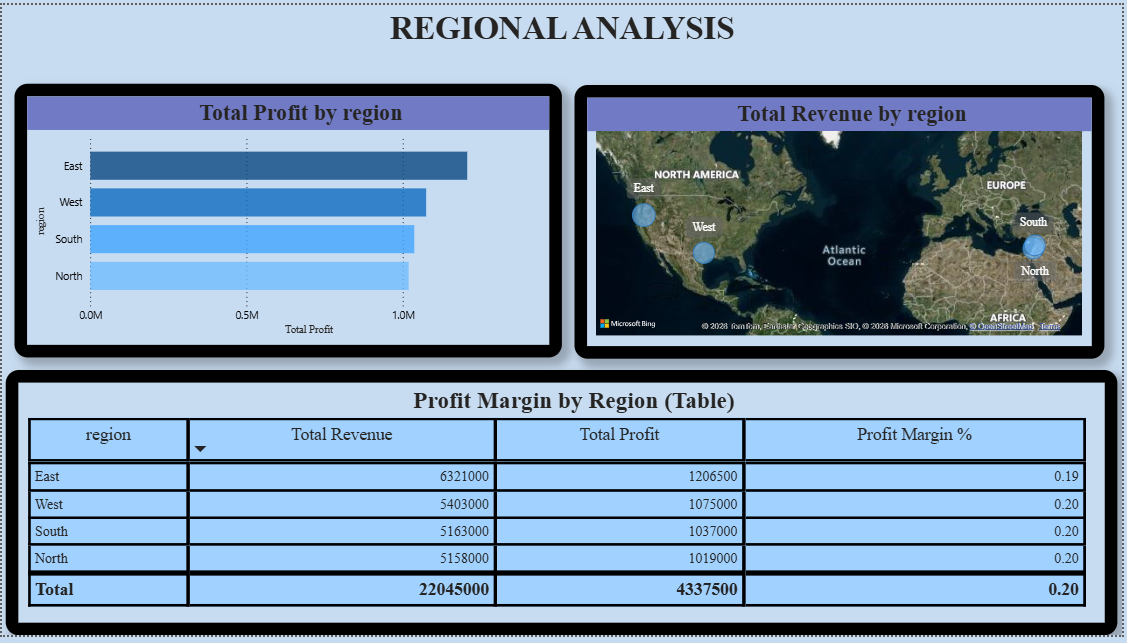

The dashboard page shown, as its layout file describes it:
{"tool":"powerbi","page":{"name":"REGIONAL ANALYSIS","canvas":[1280,720],"ordinal":2},"visuals":[{"type":"textbox","box":[0,0,1280,58.6],"z":0},{"type":"clusteredBarChart","fields":{"Category":["Sales_Data_FIXED.region"],"Y":["Sales_Data_FIXED.Total Profit"]},"box":[14.3,90,625.7,312.9],"z":1000},{"type":"map","fields":{"Category":["Sales_Data_FIXED.region"],"Size":["Sales_Data_FIXED.Total Revenue"]},"box":[654.3,91.4,605.7,312.9],"z":2000},{"type":"tableEx","title":"Profit Margin by Region (Table) ","fields":{"Values":["Sales_Data_FIXED.region","Sales_Data_FIXED.Total Revenue","Sales_Data_FIXED.Total Profit","Sales_Data_FIXED.Profit Margin %"]},"box":[4.3,417.1,1270,302.9],"z":3000}]}

Visuals, with their boxes in screenshot pixels (x1, y1, x2, y2), scaled from the page's 1280x720 canvas onto the 1127x643 screenshot:
textbox: Rect(0, 0, 1126, 52)
clusteredBarChart - Sales_Data_FIXED.region x Sales_Data_FIXED.Total Profit: Rect(13, 80, 564, 360)
map - Sales_Data_FIXED.region x Sales_Data_FIXED.Total Revenue: Rect(576, 82, 1109, 361)
"Profit Margin by Region (Table) " tableEx: Rect(4, 372, 1122, 642)
